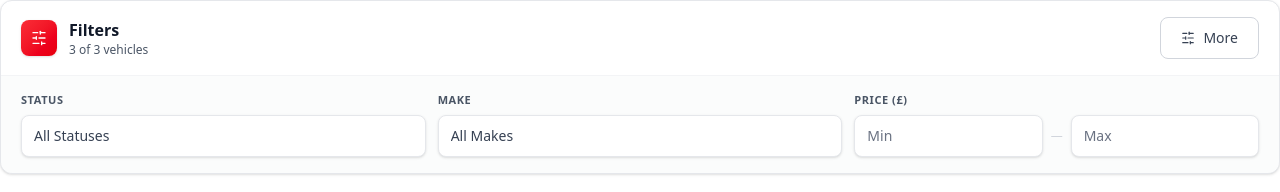
Test: Filters › 📋 'Less' label appears once advanced is open
Click the button "More" at (1210, 38), box top-left (1160, 17), bottom-right (1259, 59)
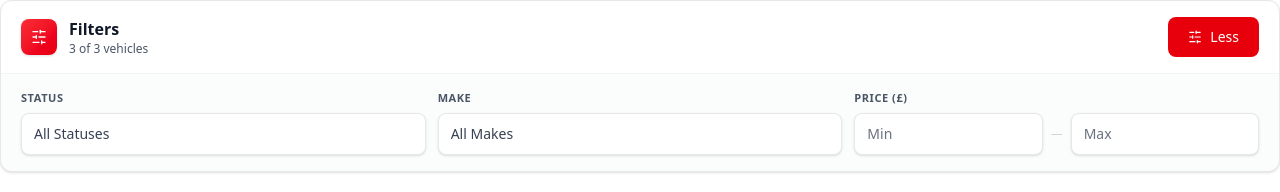
Check: the button "Less" is shown, box top-left (1168, 17), bottom-right (1259, 57)
